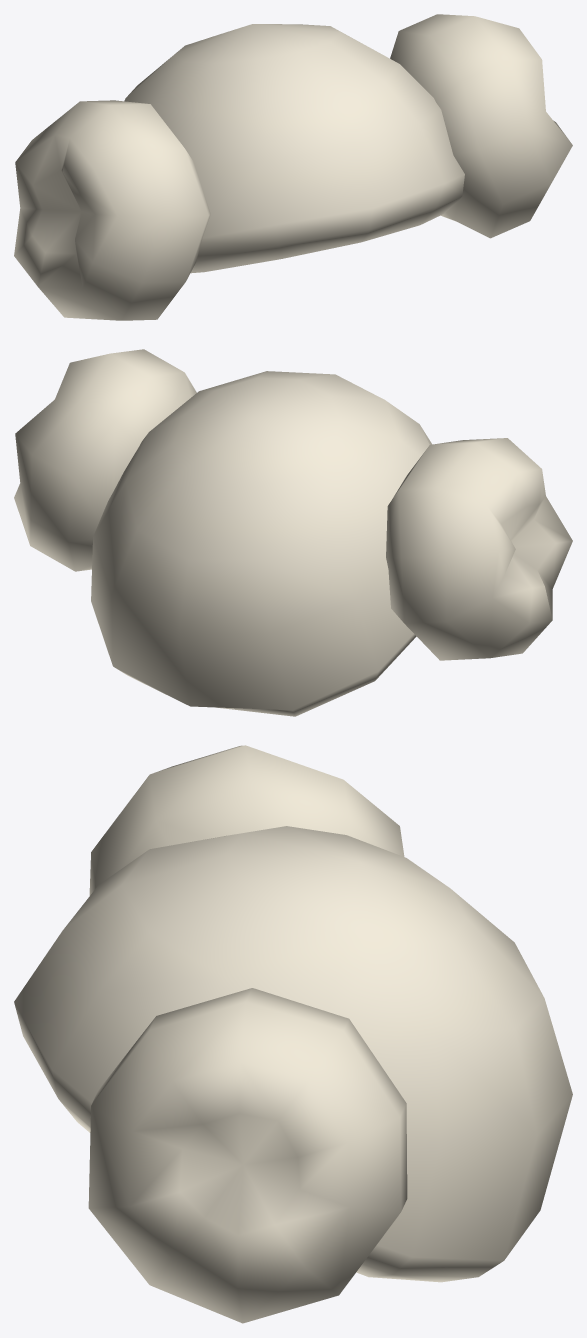
Rendered from Headgear_25.fbx.
3 renders of one model, top to bottom at view 1: azimuth 30°, elevation 25°; view 2: azimuth 150°, elevation 25°; view 3: azimuth 270°, elevation 25°, orthographic. The views are drawn at different scales.
Parts seen in each view (by area): view 1: Headgear_25; view 2: Headgear_25; view 3: Headgear_25.
Boxes of the visible parts, <box> form: Headgear_25: <box>14,14,572,320</box>; Headgear_25: <box>14,349,572,716</box>; Headgear_25: <box>14,745,572,1323</box>.
Size of the model in its own units: 134 by 64.74 by 87.13.
